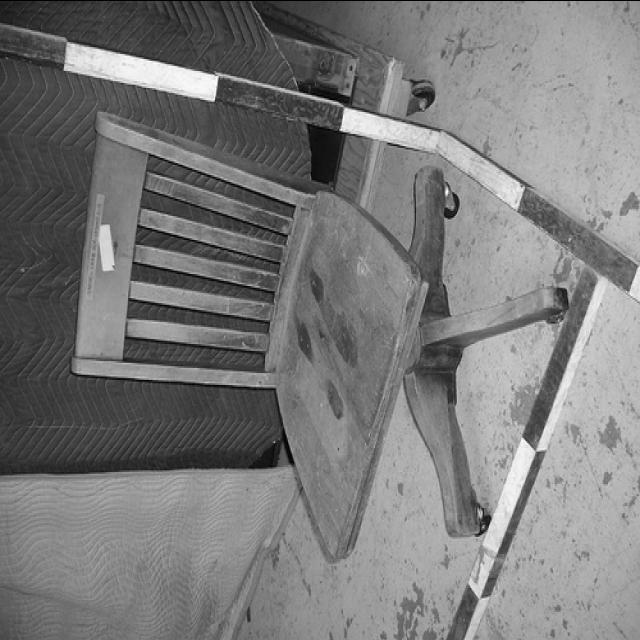chair: (71, 90, 573, 564)
